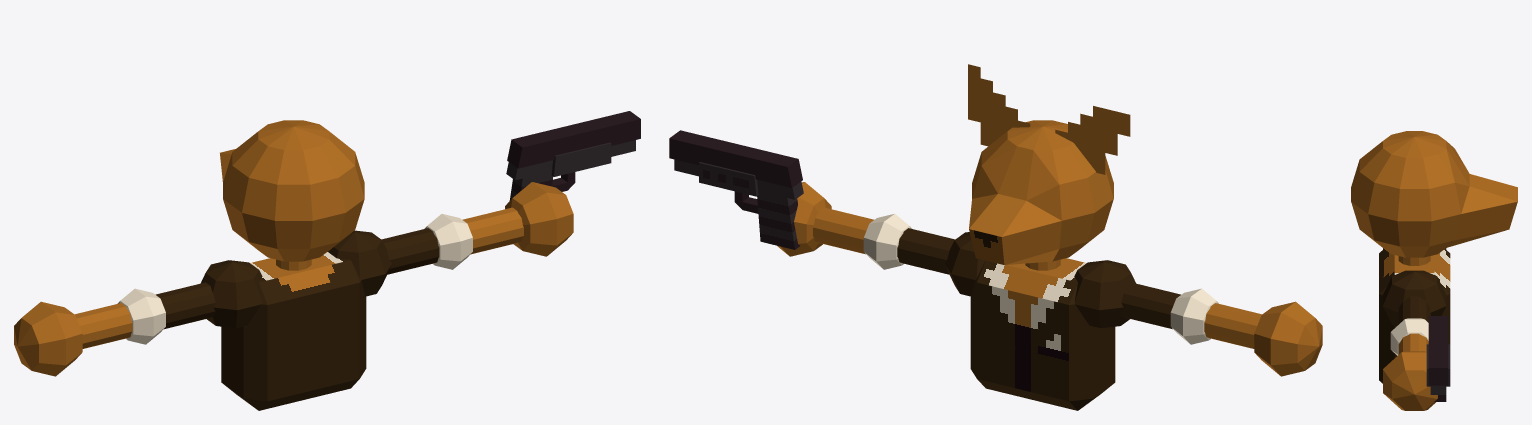
File: fox.gltf
The picture shows the model from 3 angles, left to right: view 1: azimuth 30°, elevation 25°; view 2: azimuth 150°, elevation 25°; view 3: azimuth 270°, elevation 25°; orthographic projection. The views are drawn at different scales.
Parts seen in each view (by area): view 1: beveled_cuboid, sphere (×6), head, cylinder (×4), cuboid (×3); view 2: beveled_cuboid, head, sphere (×6), cuboid (×4), cylinder (×4), plane; view 3: head, sphere (×3), beveled_cuboid, cuboid (×3), cylinder (×3).
Part boxes in pixels (x1,y1,x2,y2): beveled_cuboid: (221, 252, 366, 410); sphere (×6): (14, 182, 573, 376); head: (220, 120, 364, 261); cylinder (×4): (75, 207, 523, 348); cuboid (×3): (506, 111, 640, 180); beveled_cuboid: (970, 258, 1115, 410); head: (969, 120, 1113, 264); sphere (×6): (777, 182, 1322, 376); cuboid (×4): (669, 130, 803, 249); cylinder (×4): (813, 207, 1261, 348); plane: (968, 64, 1130, 174); head: (1351, 131, 1517, 257); sphere (×3): (1383, 270, 1446, 410); beveled_cuboid: (1379, 249, 1450, 383); cuboid (×3): (1426, 316, 1450, 394); cylinder (×3): (1398, 256, 1430, 354).
Size of the model in its own units: 5.14 by 2.75 by 1.31.
2 materials, 2 textured.
